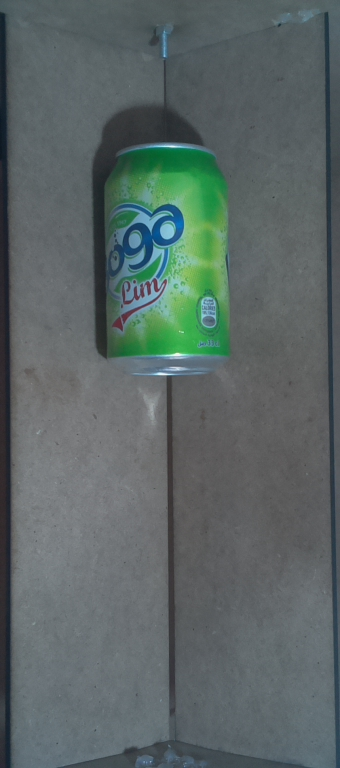Canette: (90, 136, 244, 390)
